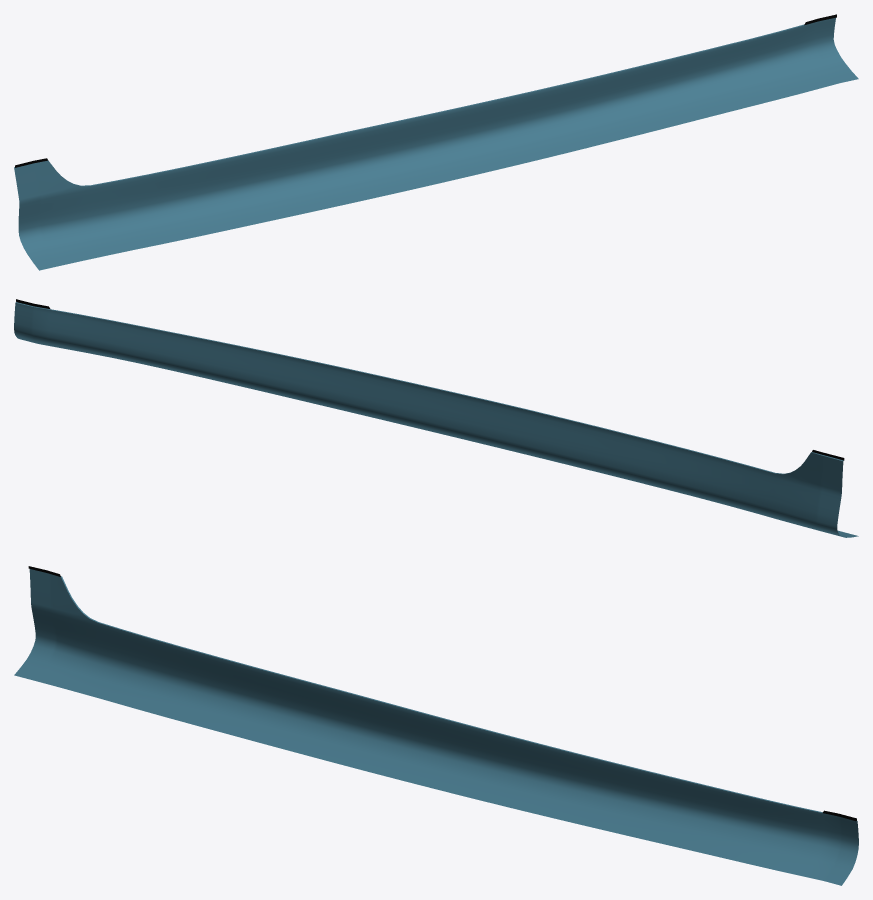
The picture shows the model from 3 angles, top to bottom: view 1: azimuth 30°, elevation 25°; view 2: azimuth 150°, elevation 25°; view 3: azimuth 330°, elevation 25°; orthographic projection.
Visible parts, largest first — view 1: Y175_18_206A_L_1_DaS_Y175_18_206A_L, Y175_18_206A_L_1_DaS_Y175_18_206A_L_E; view 2: Y175_18_206A_L_1_DaS_Y175_18_206A_L, Y175_18_206A_L_1_DaS_Y175_18_206A_L_E; view 3: Y175_18_206A_L_1_DaS_Y175_18_206A_L, Y175_18_206A_L_1_DaS_Y175_18_206A_L_E.
Part boxes in pixels (left/top/right/bottom): Y175_18_206A_L_1_DaS_Y175_18_206A_L: left=14, top=17, right=858, bottom=270; Y175_18_206A_L_1_DaS_Y175_18_206A_L_E: left=14, top=24, right=804, bottom=186; Y175_18_206A_L_1_DaS_Y175_18_206A_L: left=14, top=303, right=858, bottom=537; Y175_18_206A_L_1_DaS_Y175_18_206A_L_E: left=15, top=302, right=843, bottom=474; Y175_18_206A_L_1_DaS_Y175_18_206A_L: left=14, top=569, right=858, bottom=885; Y175_18_206A_L_1_DaS_Y175_18_206A_L_E: left=61, top=576, right=856, bottom=821.
Bounding box in the file's own units: 202 × 23.1 × 12.35.
